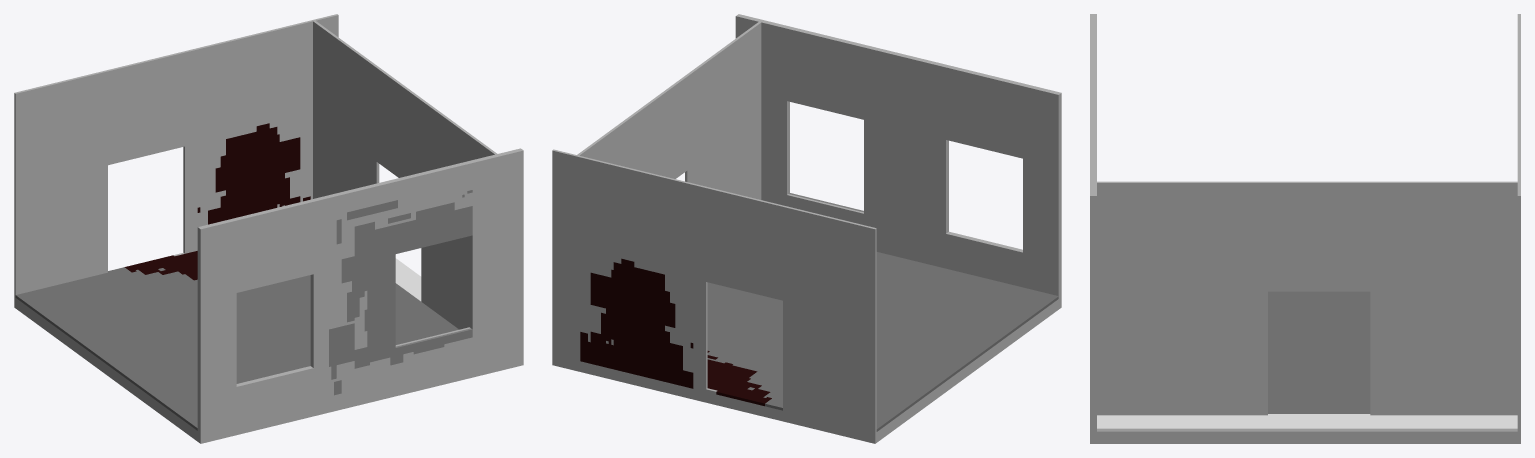
The model's file is 4x2 third (1)-5.obj.
3 views of the same model, side by side, from view 1: azimuth 30°, elevation 25°; view 2: azimuth 150°, elevation 25°; view 3: azimuth 270°, elevation 25° (orthographic). The views are drawn at different scales.
Visible parts, largest first — view 1: 4x2 third (1)-5; view 2: 4x2 third (1)-5; view 3: 4x2 third (1)-5.
Part boxes in pixels (x1,y1,x2,y2): 4x2 third (1)-5: [14, 14, 523, 443]; 4x2 third (1)-5: [552, 14, 1061, 443]; 4x2 third (1)-5: [1090, 14, 1520, 443].
Size of the model in its own units: 126 by 80 by 126.
Materials: 1 (1 with a texture image).
